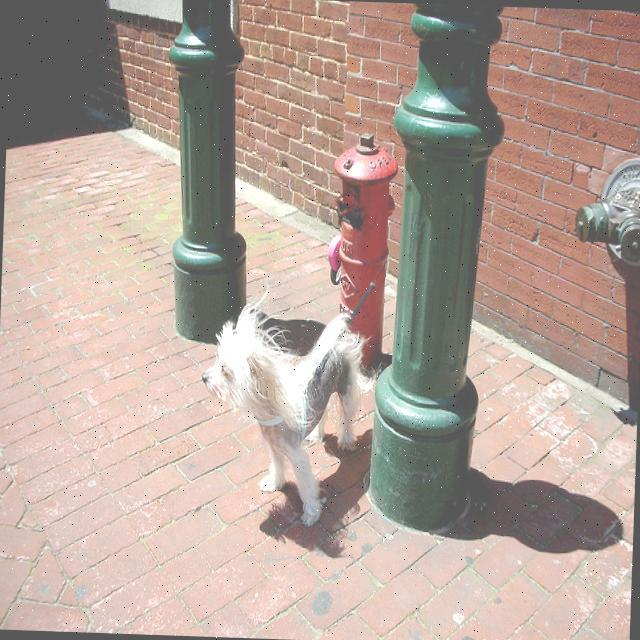fire_hydrant: (322, 128, 402, 374), (572, 157, 640, 278)
